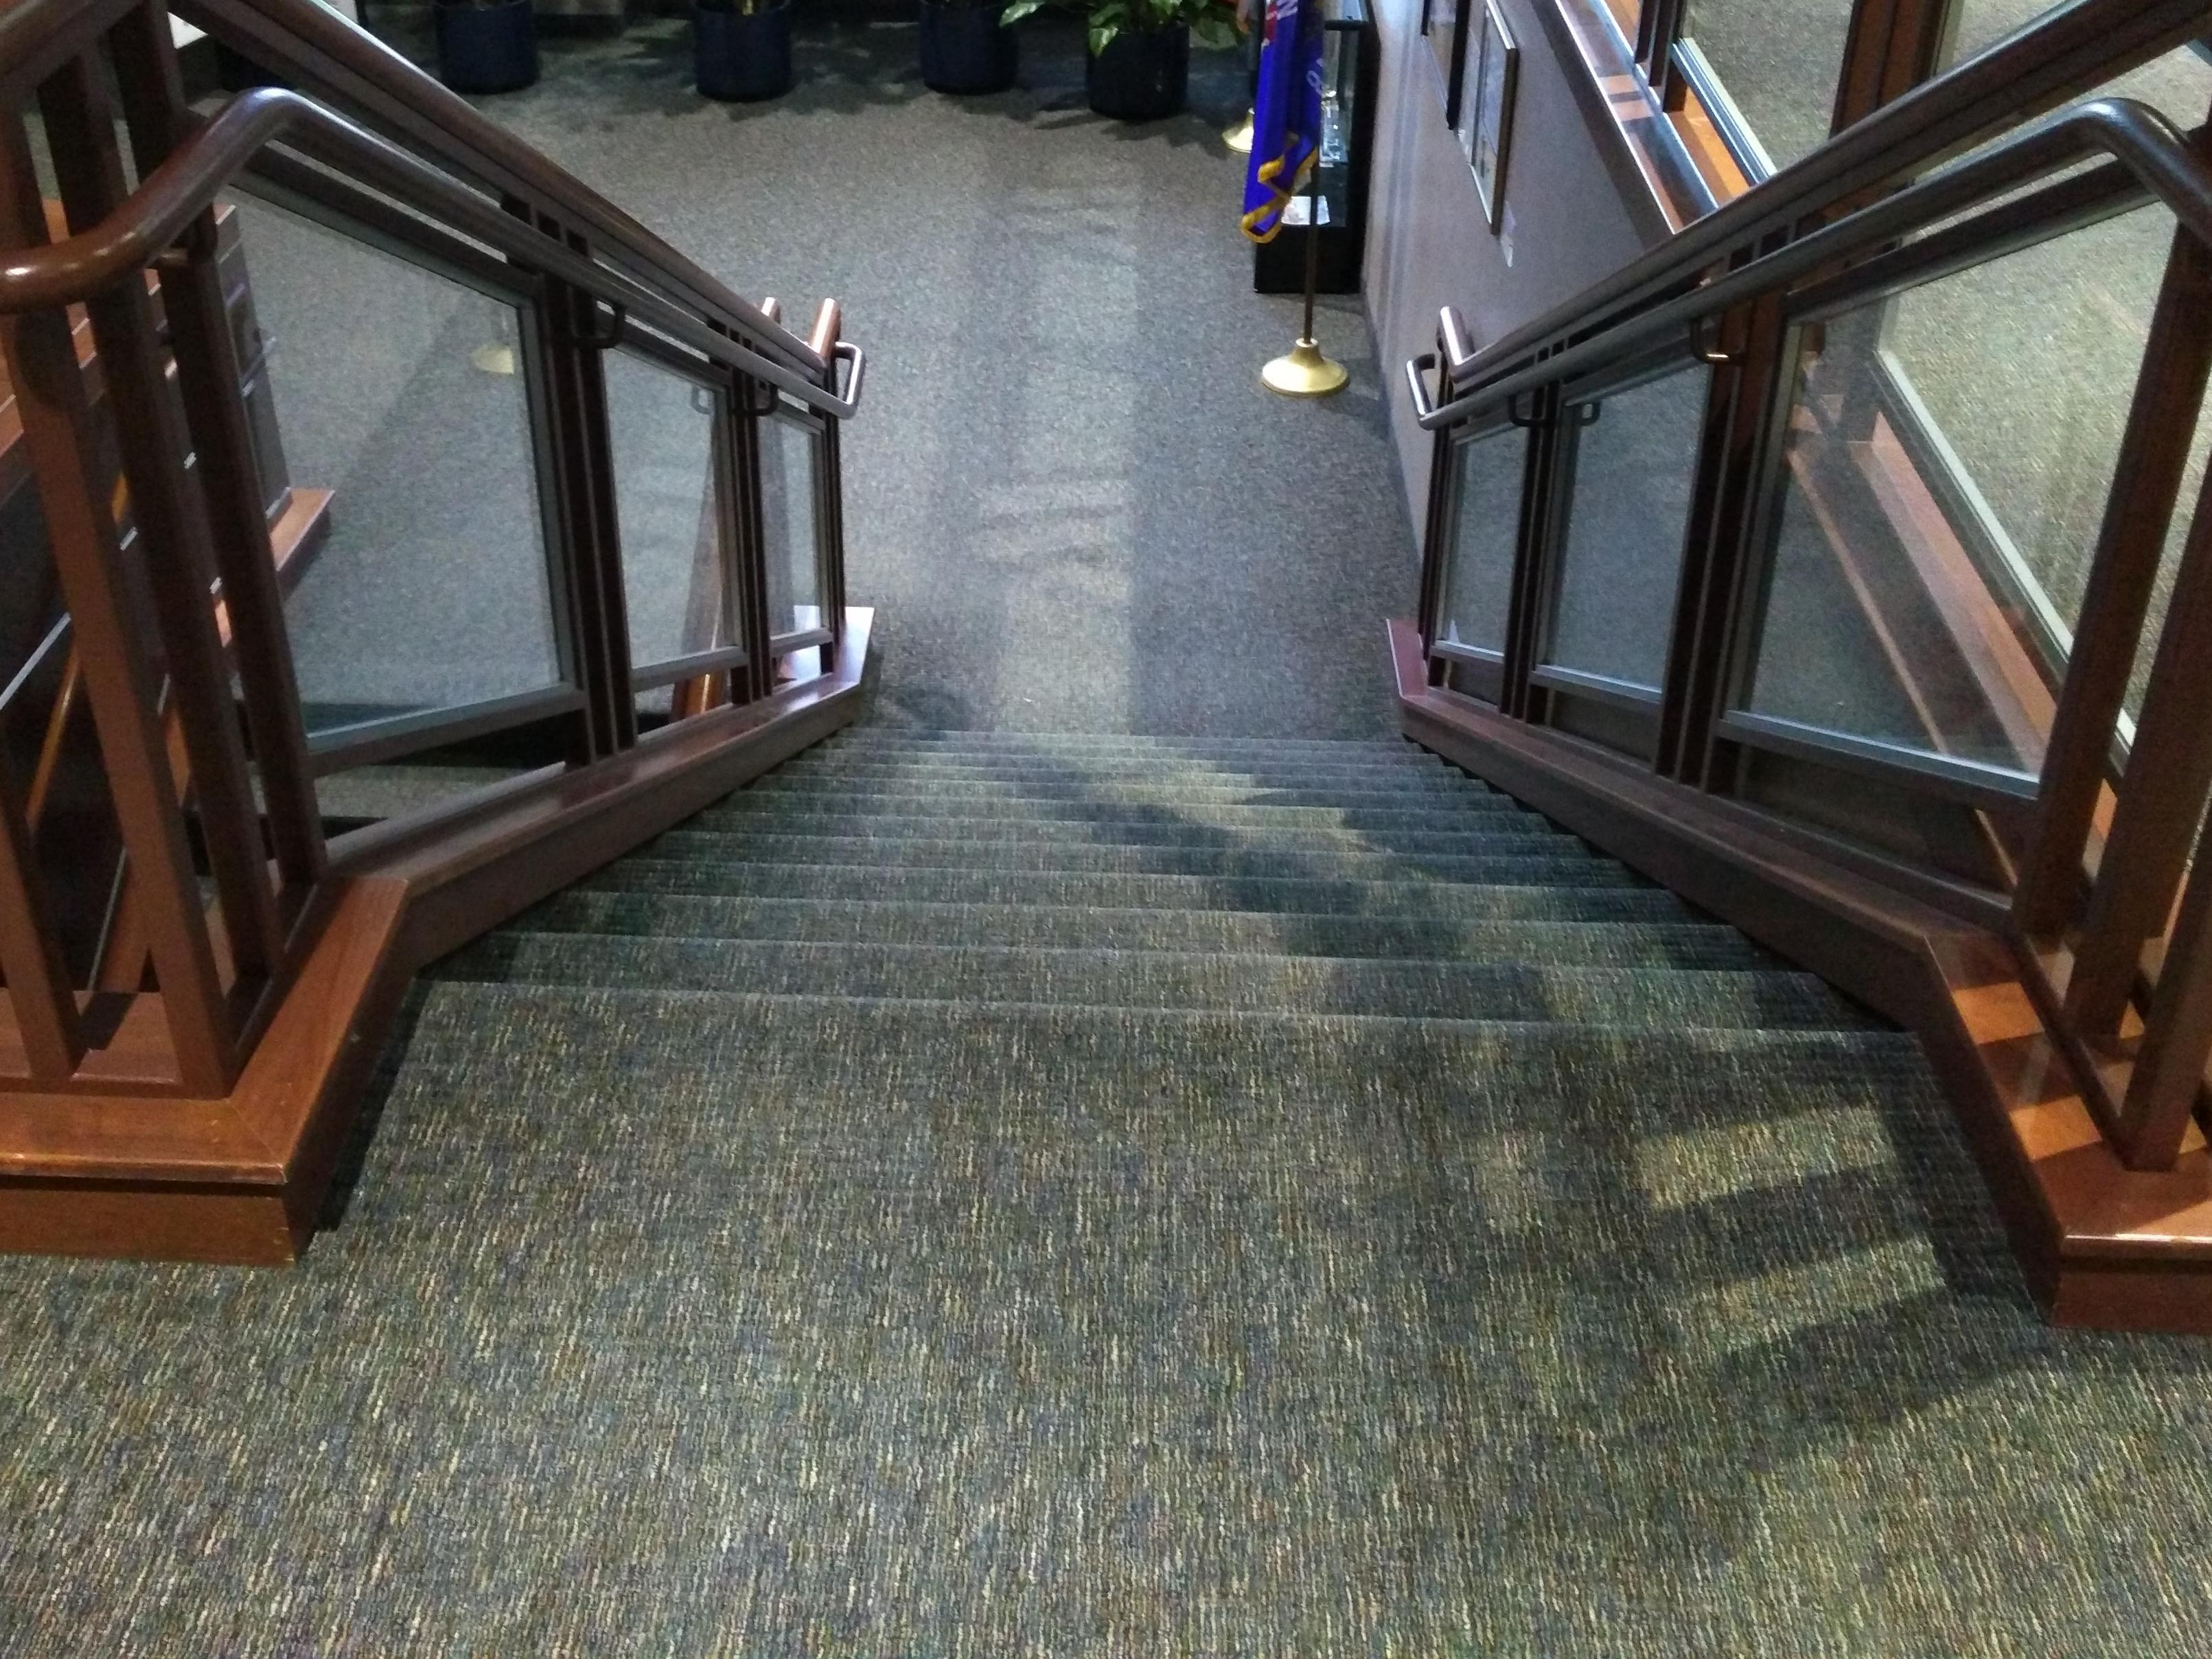stairs_down: (409, 612, 1890, 1058)
